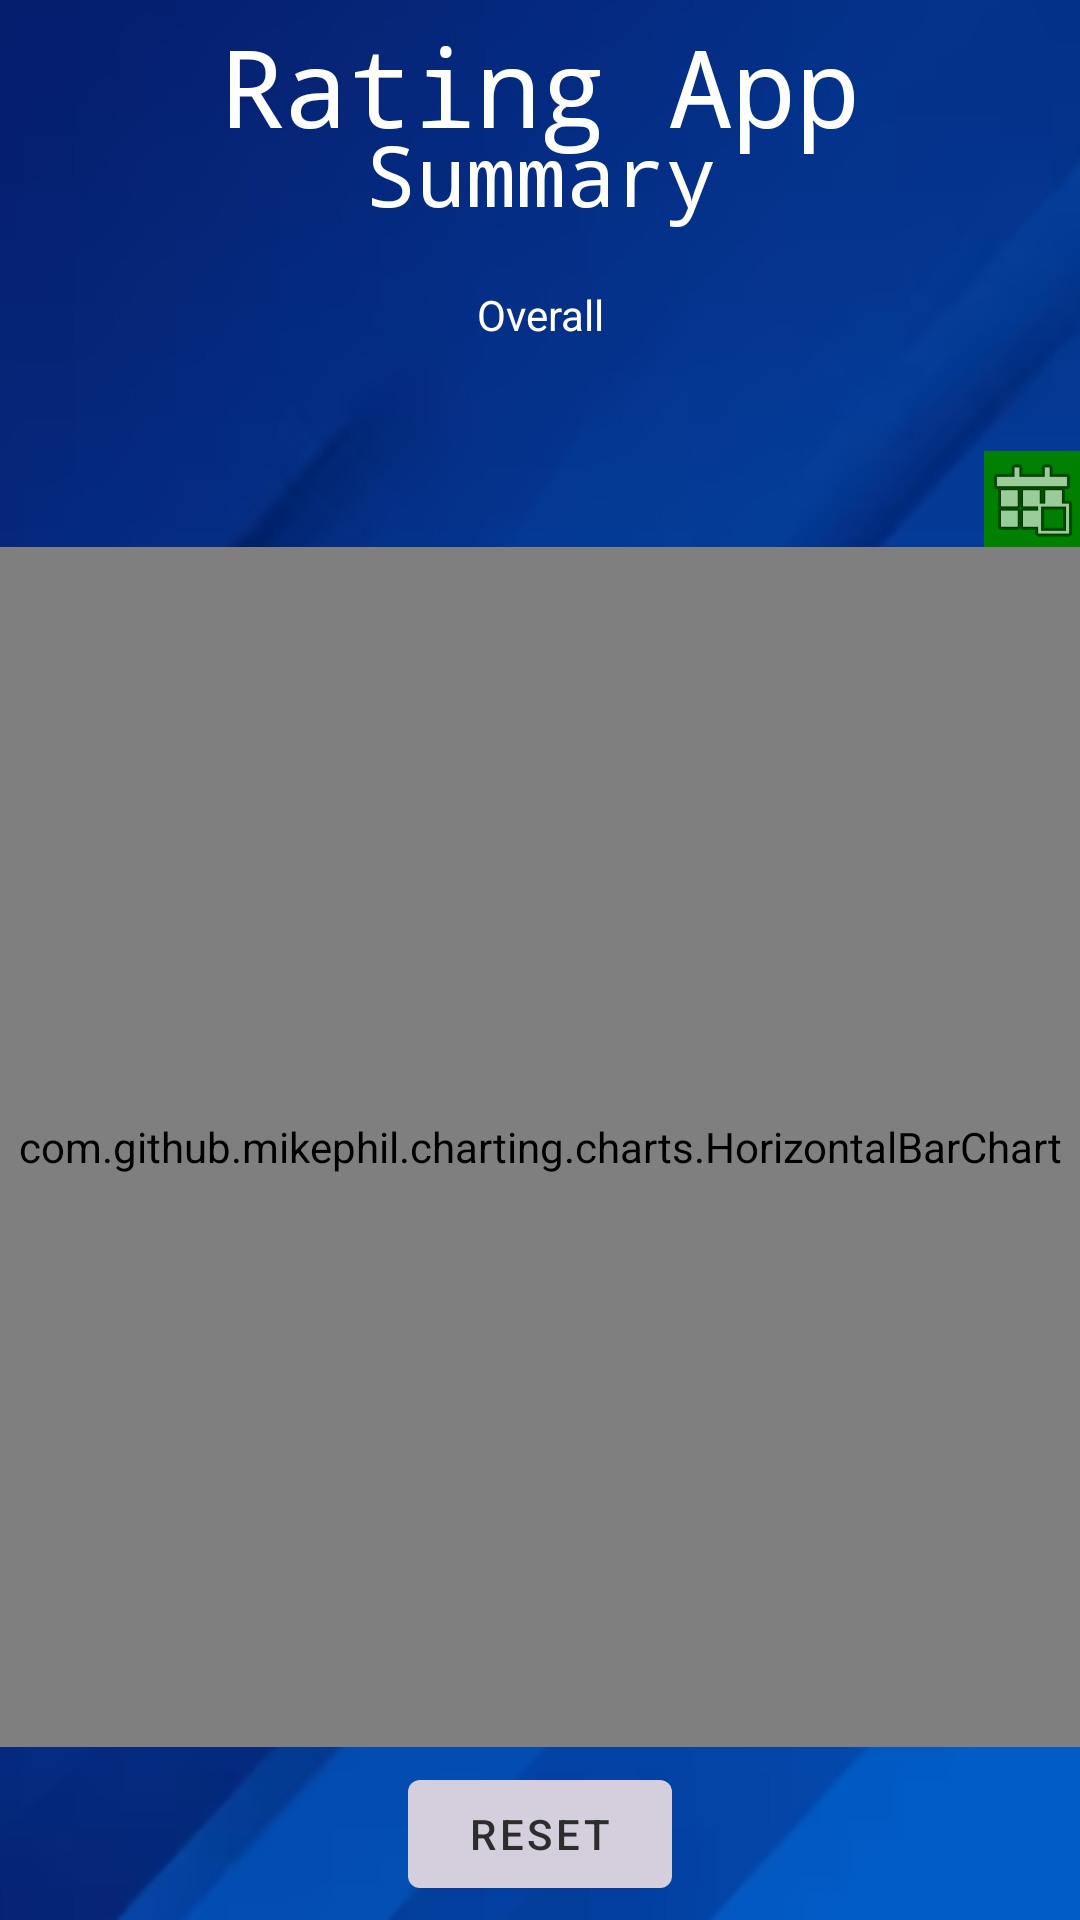

Where to tap for icons on this 1080px x 1920px app screen, as (x,y):
today: (1032,499)
